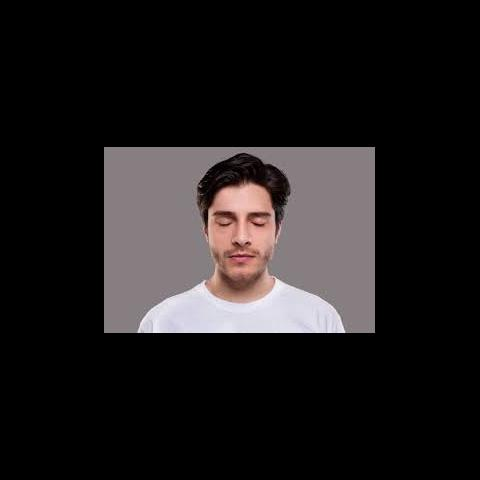closed: (208, 208, 277, 229)
